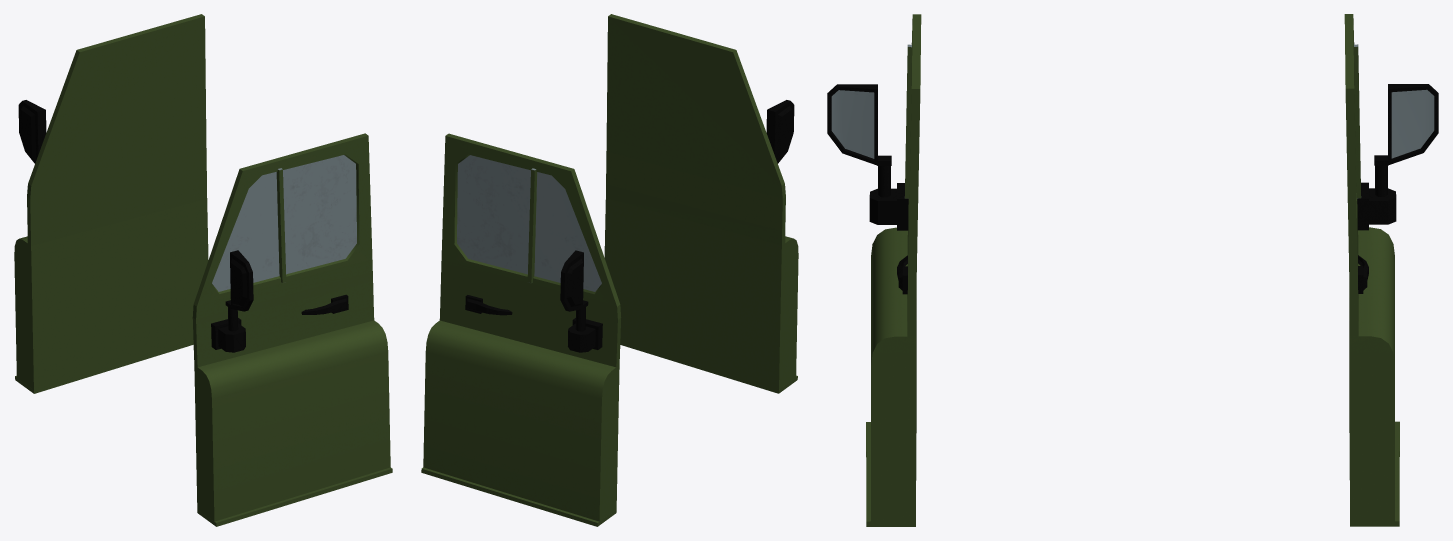
File: perdveri.fbx
3 views of the same model, side by side, from view 1: azimuth 30°, elevation 25°; view 2: azimuth 150°, elevation 25°; view 3: azimuth 270°, elevation 25° (orthographic). The views are drawn at different scales.
Visible parts, largest first — view 1: perlevdoor, perprdoor; view 2: perprdoor, perlevdoor; view 3: perprdoor, perlevdoor.
Boxes of the visible parts, left/top/right/bottom form: perlevdoor: left=192, top=133, right=392, bottom=526; perprdoor: left=14, top=14, right=208, bottom=393; perprdoor: left=421, top=133, right=621, bottom=526; perlevdoor: left=604, top=14, right=798, bottom=393; perprdoor: left=1344, top=14, right=1438, bottom=526; perlevdoor: left=827, top=14, right=921, bottom=526.
Size of the model in its own units: 60.04 by 107 by 132.
